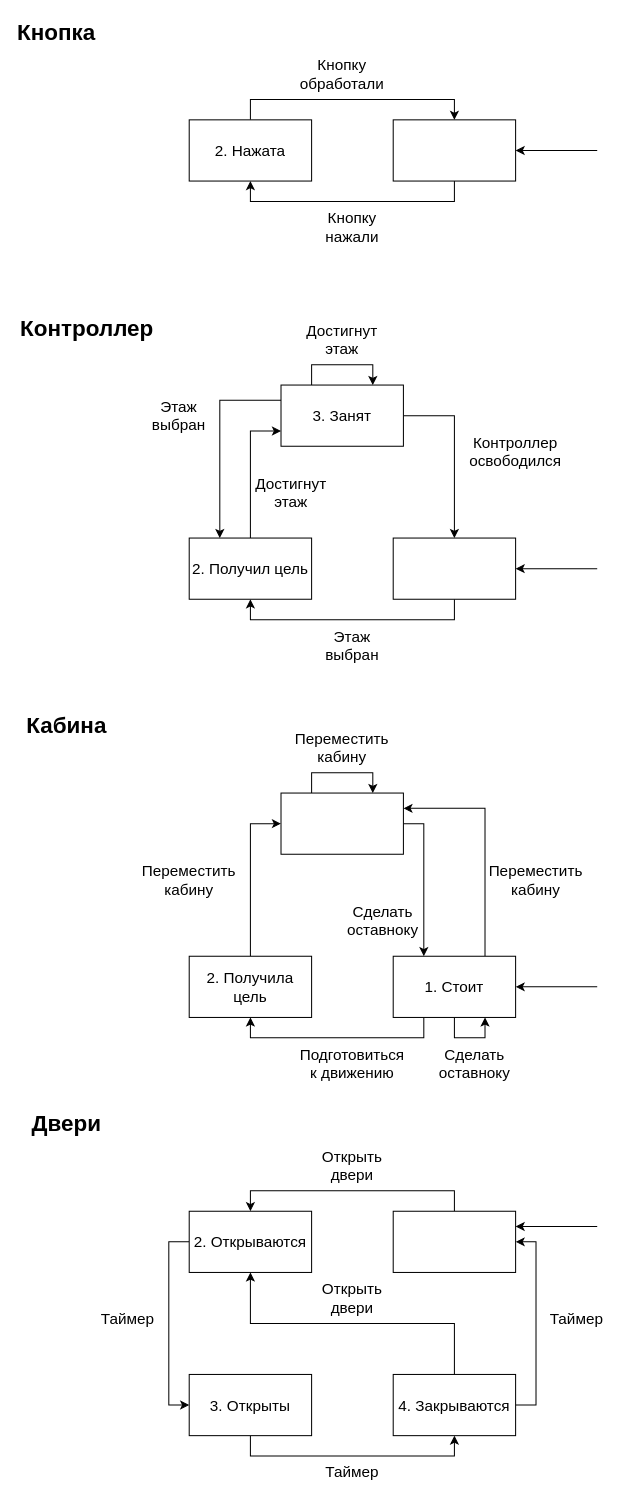
This 625x1503 diagram has some shape labels left out. The shapes that lost their labels are listed below. From the top down, each one's centre as x and y in pixels, then its label:
At pixel 454 150: "1. Не нажата".
At pixel 454 568: "1. Свободен".
At pixel 341 823: "3. Двигается".
At pixel 454 1241: "1. Закрыты".
